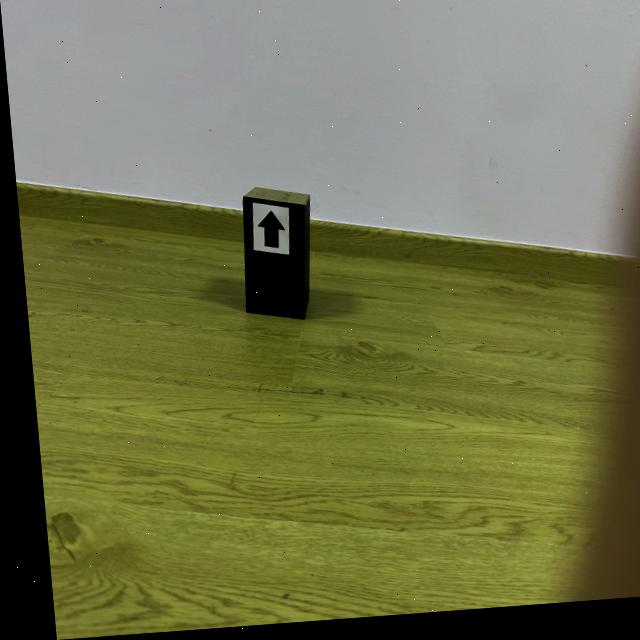UP: (253, 215, 280, 252)
